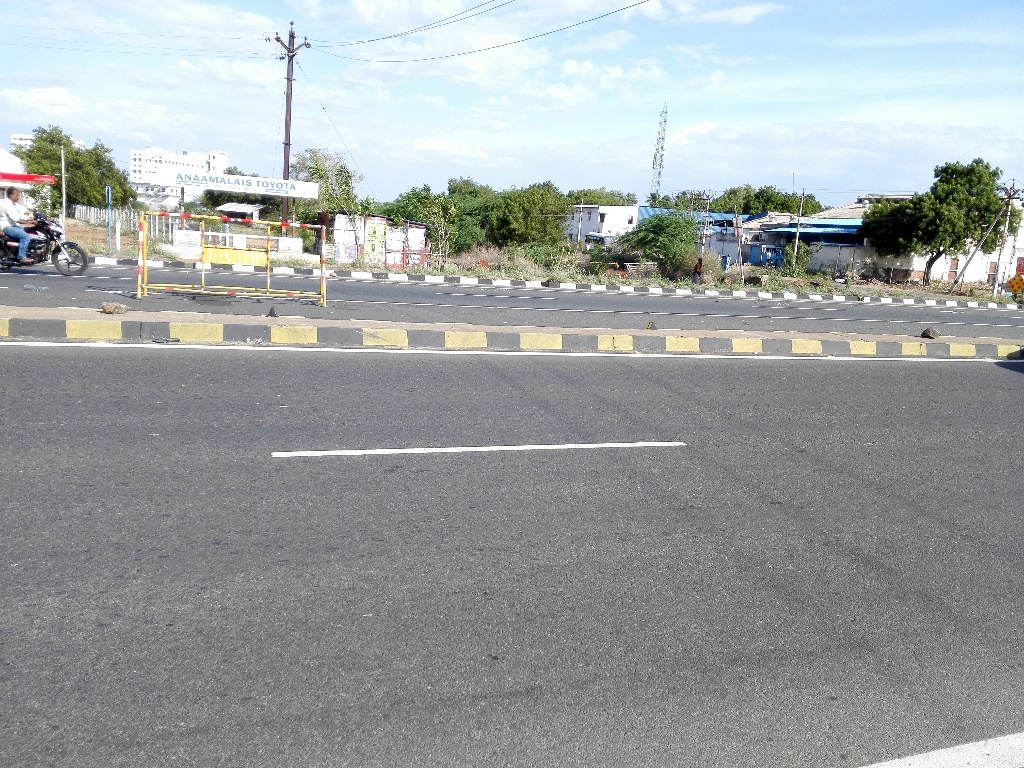biker: (1, 158, 96, 282)
nohelmet: (3, 181, 26, 209)
